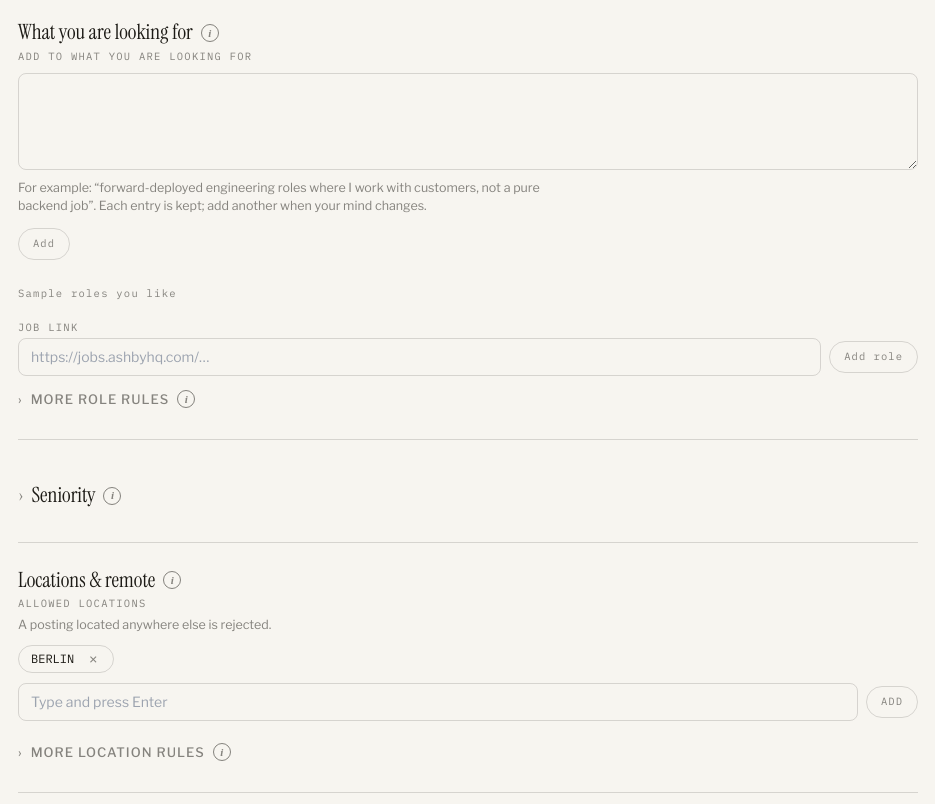
it: preferences screen › marks itself as the current step and loads the saved values
(page scrolled)
Expected: the heading "What you are looking for" is shown, [18,17,193,49]
Step 1. Click the button "› More role rules" → (94, 399), box [18,390,169,409]
(page scrolled)
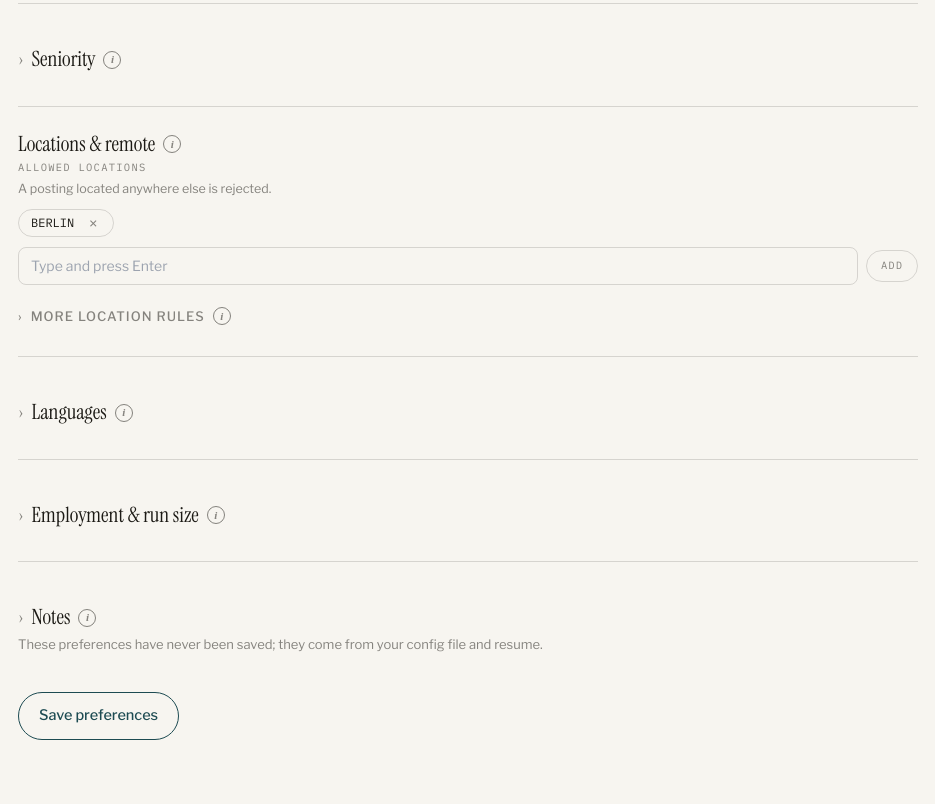
Step 2. Click the button "› Notes" → (44, 618), box [18,602,70,634]
(page scrolled)
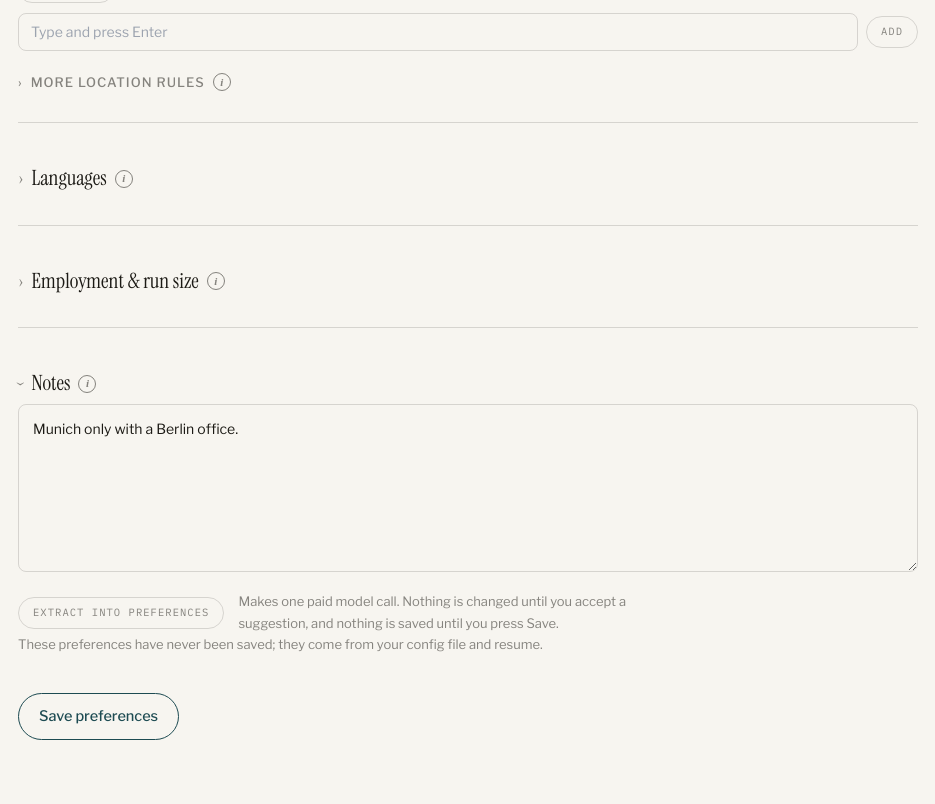
Result: the text box named "Notes" holds "Munich only with a Berlin office." at [18,404,918,572]
